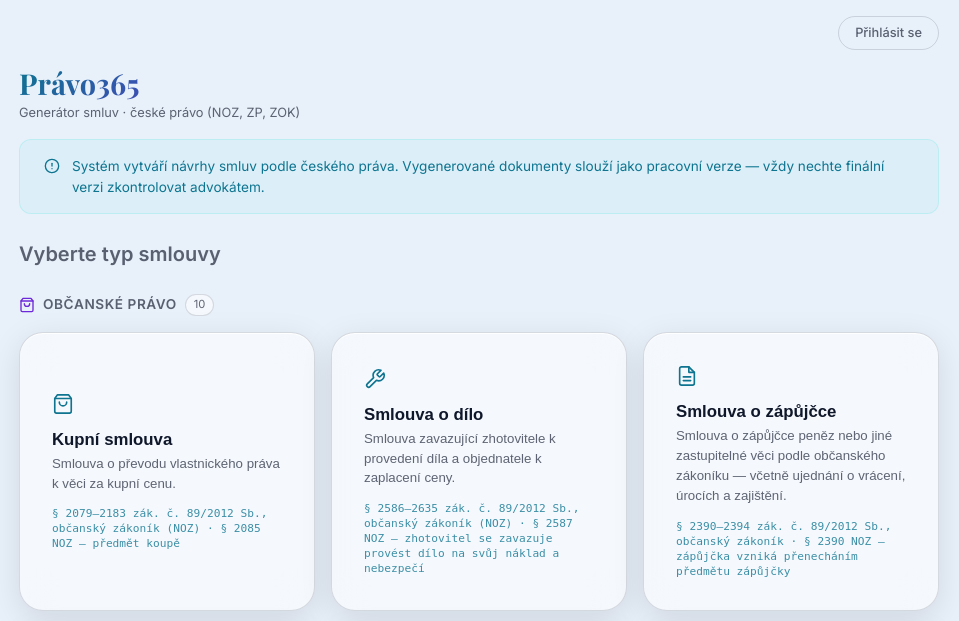
Test case: 2 — Navigation to form › clicking Kupní smlouva card shows the contract form
This screenshot has width=959, height=621.
Click the button "Kupní smlouva" at point(167, 472), box 19,332 -> 315,611
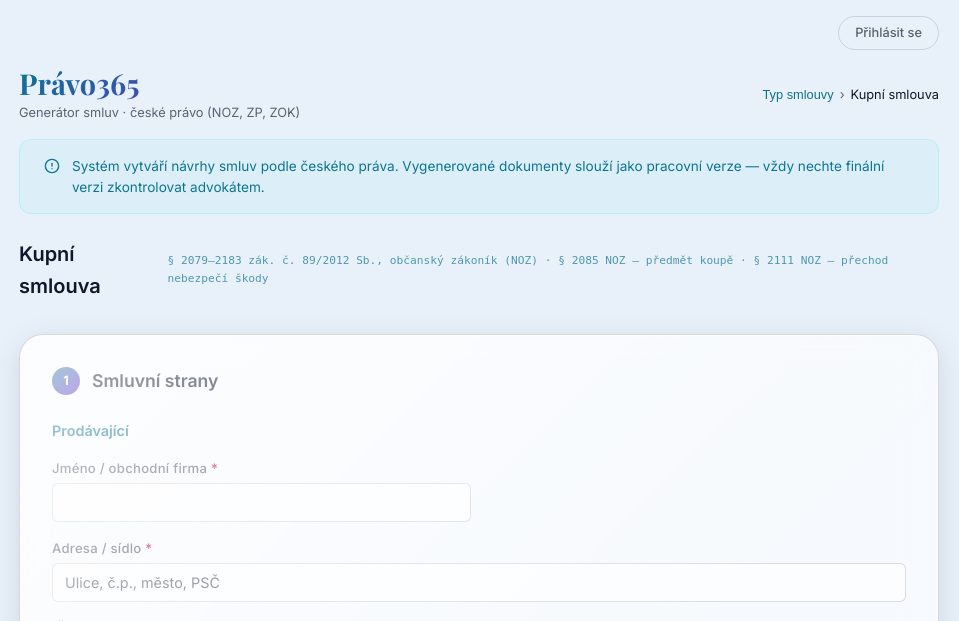
Expected: the heading "Kupní smlouva" is shown, 19,242 -> 101,298
